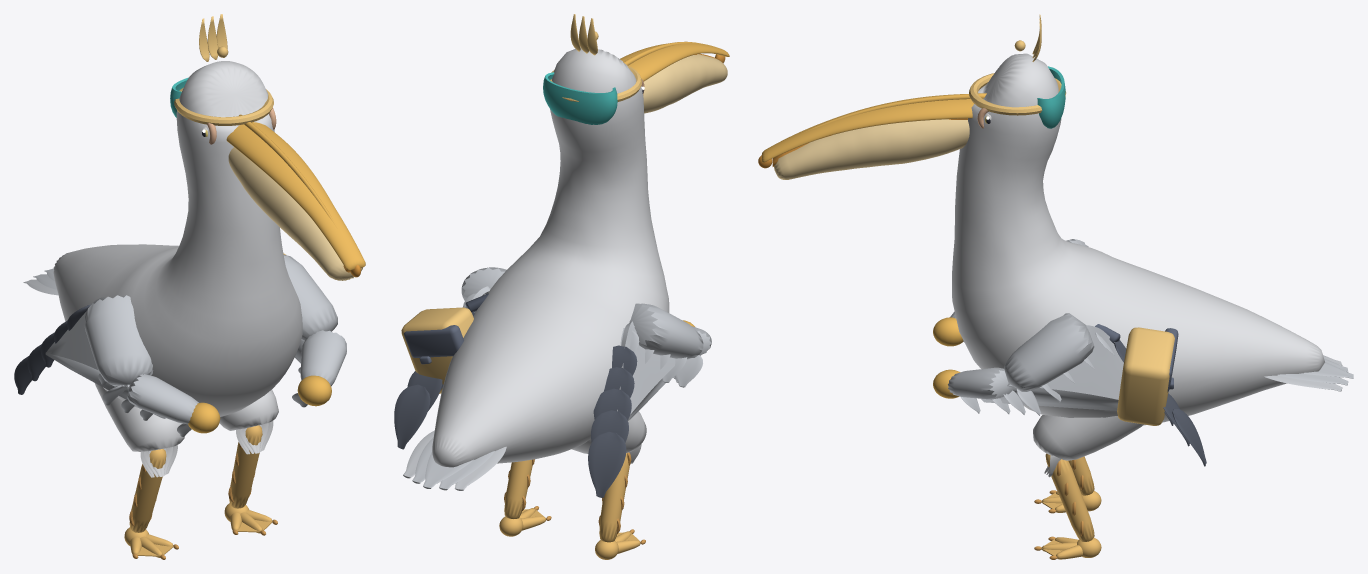
File: pelican.glb
3 renders of one model, left to right at view 1: azimuth 30°, elevation 25°; view 2: azimuth 150°, elevation 25°; view 3: azimuth 270°, elevation 25°, orthographic. The views are drawn at different scales.
Visible parts, largest first — view 1: body, wingL, beak, legL, wingR, legR, cap, crest, tail; view 2: body, wingL, beak, bag, legL, wingR, cap, tail, legR, crest; view 3: body, wingR, beak, legR, bag, cap, tail, legL, wingL.
Part boxes in pixels (box(x1,y1,x2,y2)): body: box(53, 61, 302, 416); wingL: box(14, 295, 220, 436); beak: box(226, 114, 365, 280); legL: box(95, 383, 184, 559); wingR: box(283, 254, 346, 407); legR: box(219, 389, 278, 535); cap: box(170, 46, 273, 125); crest: box(199, 14, 227, 61); tail: box(23, 268, 58, 295); body: box(432, 47, 669, 467); wingL: box(588, 303, 711, 497); beak: box(620, 41, 729, 113); bag: box(401, 293, 488, 393); legL: box(572, 411, 646, 559); wingR: box(394, 267, 506, 449); cap: box(543, 31, 642, 124); tail: box(403, 430, 506, 490); legR: box(499, 459, 551, 536); crest: box(570, 14, 597, 55); body: box(952, 53, 1324, 425); wingR: box(933, 313, 1206, 466); beak: box(758, 93, 986, 179); legR: box(1033, 415, 1143, 559); bag: box(1095, 324, 1178, 425); cap: box(969, 40, 1066, 128); tail: box(1264, 355, 1353, 391); legL: box(1034, 456, 1101, 513); wingL: box(933, 239, 1088, 346).
Size of the model in its own units: 0.4225 by 0.882 by 0.9244.
